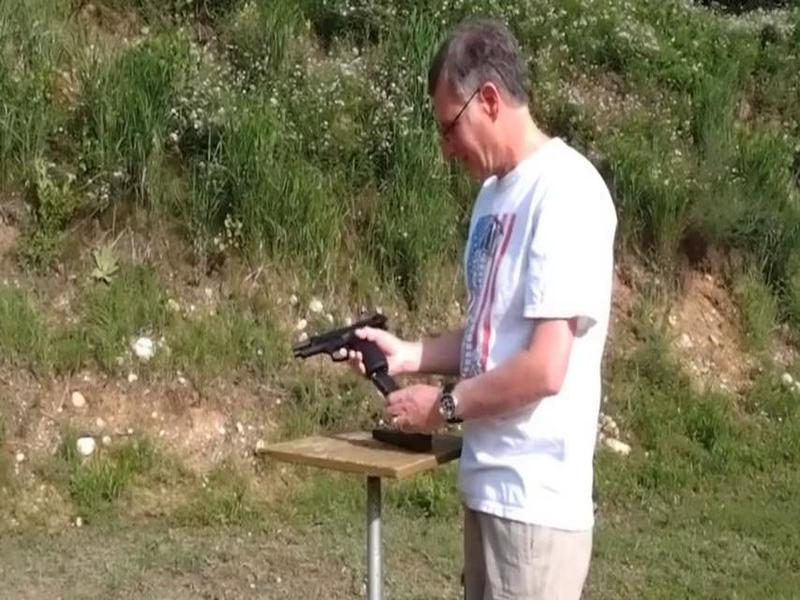Pistola: (277, 311, 409, 408)
